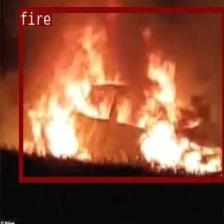fire: (19, 7, 224, 180)
